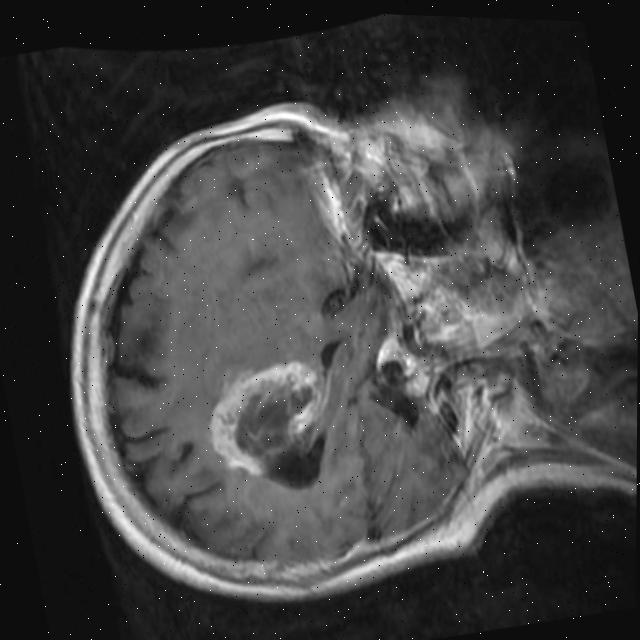Glioma: (196, 352, 336, 484)
